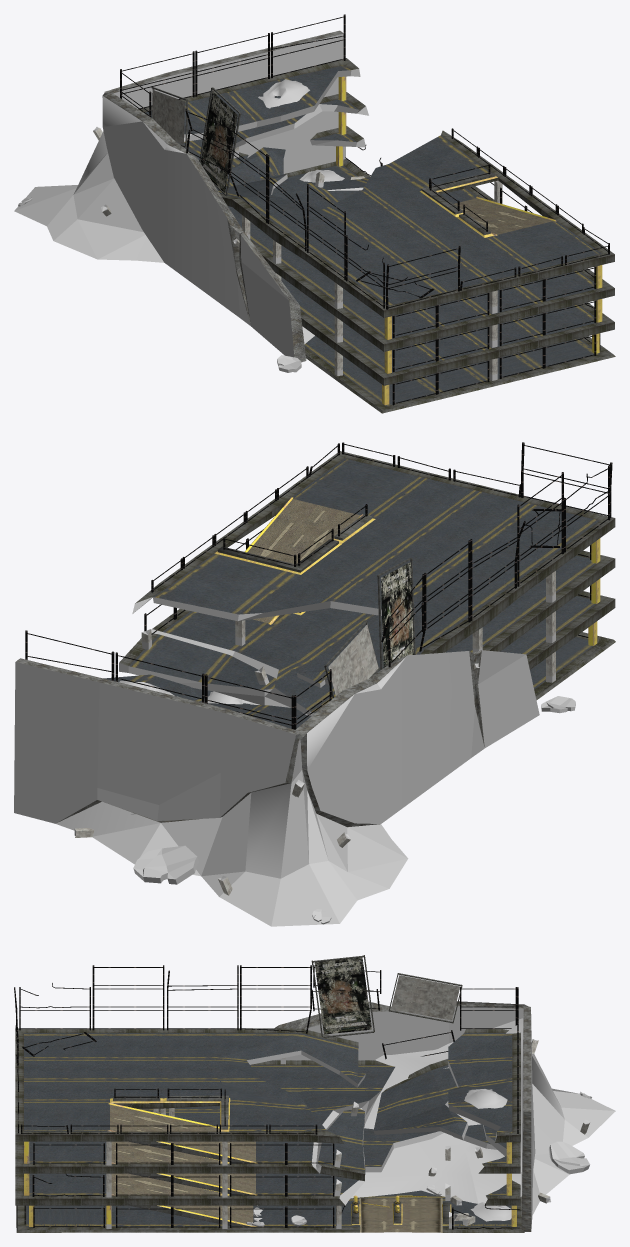
File: Garage.fbx
3 renders of one model, top to bottom at view 1: azimuth 30°, elevation 25°; view 2: azimuth 150°, elevation 25°; view 3: azimuth 270°, elevation 25°, orthographic. The views are drawn at different scales.
Visible parts, largest first — view 1: Garage; view 2: Garage; view 3: Garage.
Boxes of the visible parts, bbox=[...] form: Garage: bbox=[14, 14, 615, 413]; Garage: bbox=[14, 442, 615, 926]; Garage: bbox=[14, 955, 615, 1232].
Bounding box in the file's own units: 3037 × 1784 × 5420.
